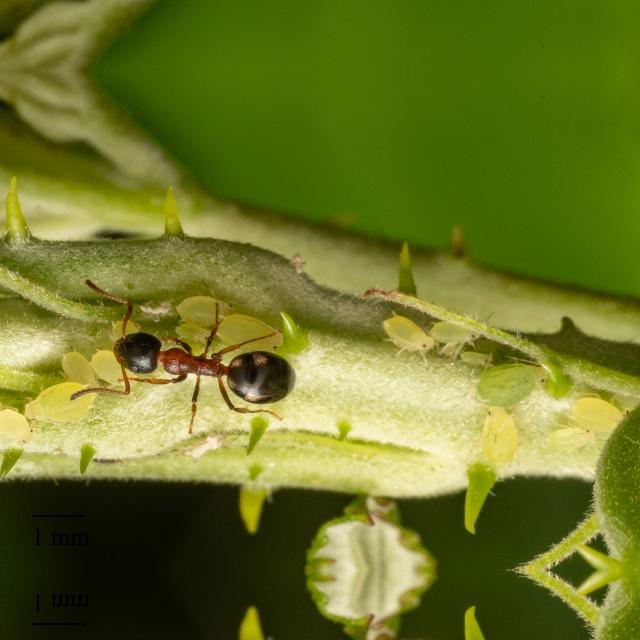Dolichoderus: (76, 296, 312, 424)
